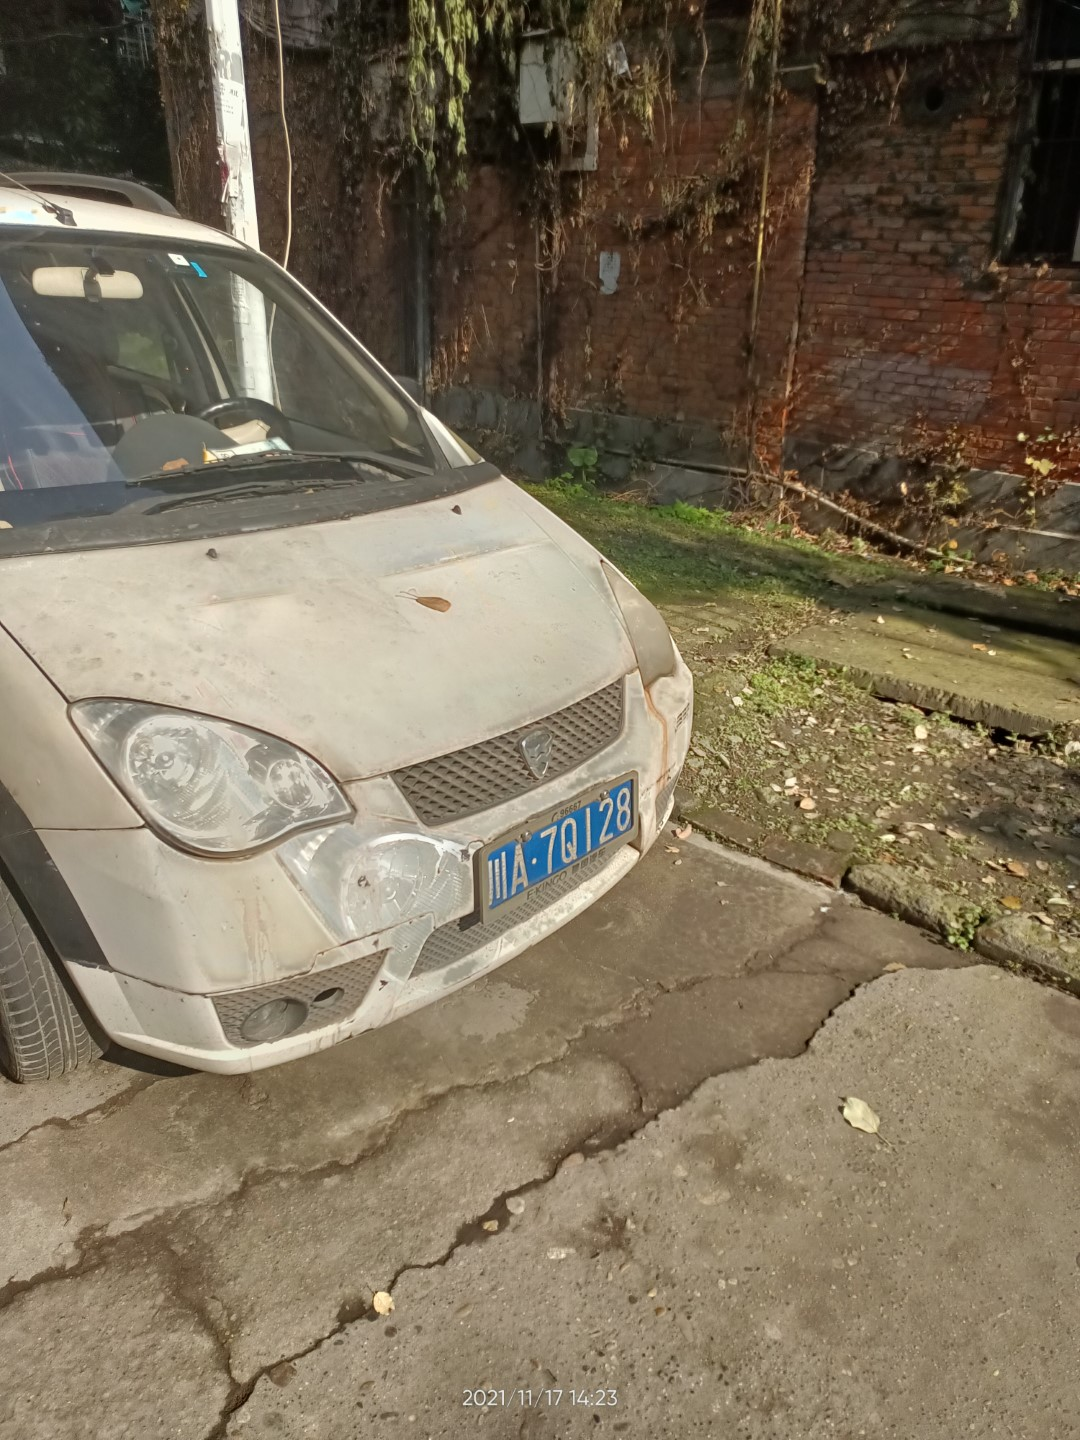plate: (484, 776, 636, 916)
